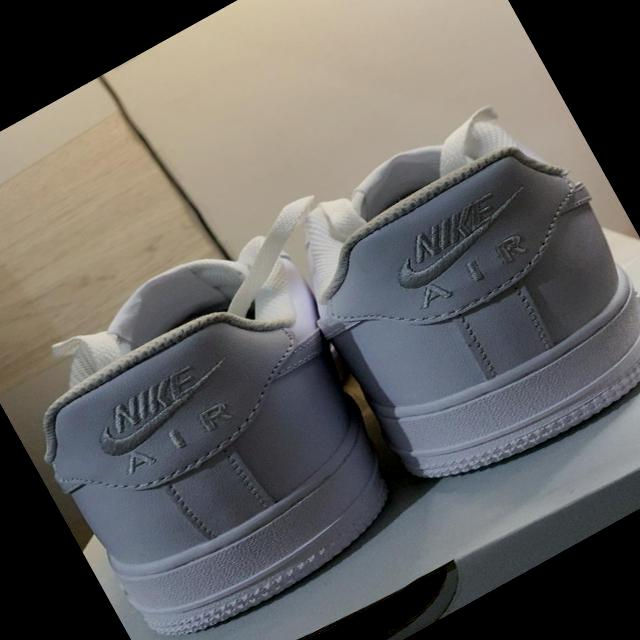nike_original_airforce: (0, 211, 435, 640), (252, 57, 640, 516)
